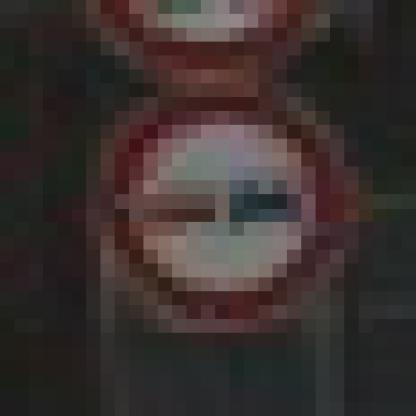No Overtaking: (87, 84, 331, 348)
